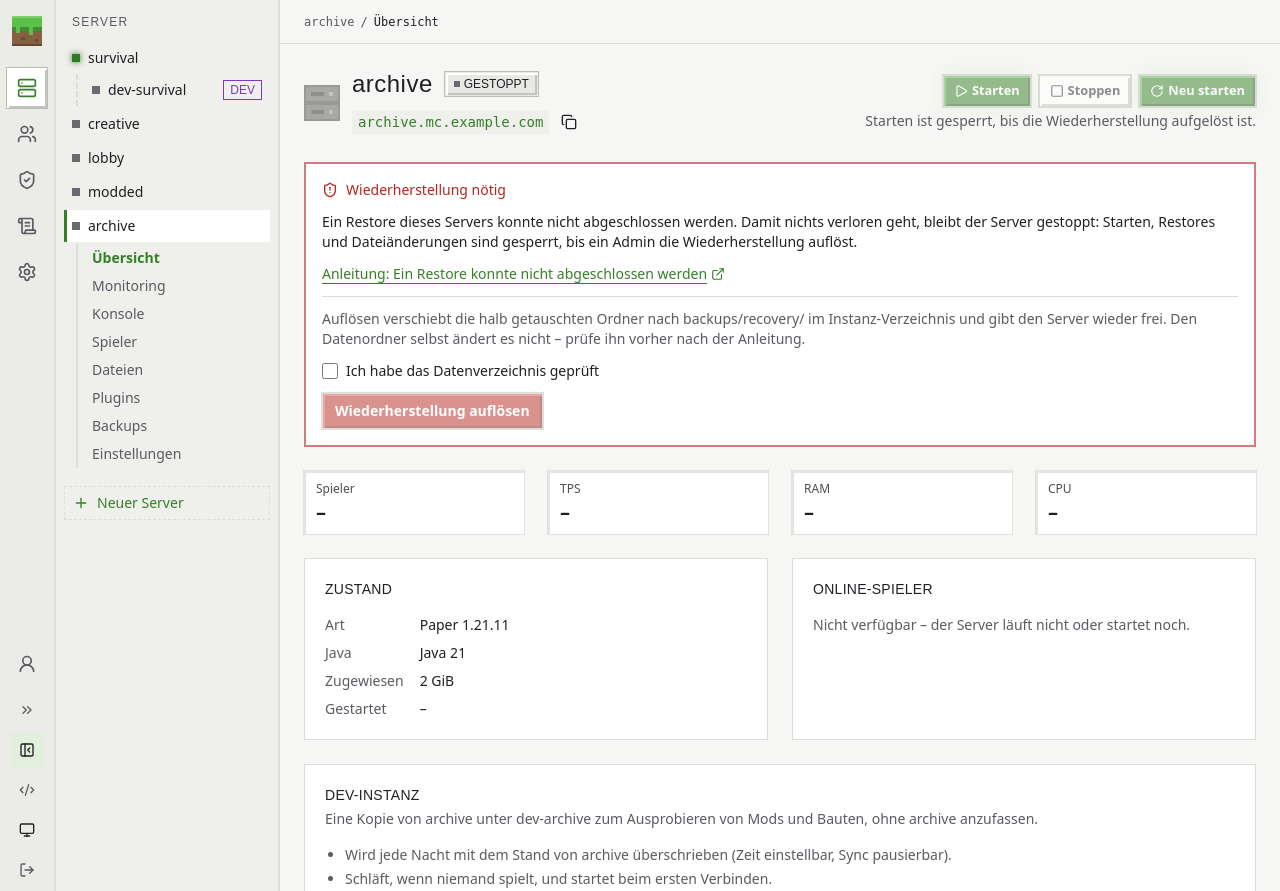
ServerLayout › data state (data safety spec §2.3) › asks for the second factor before resolving and retries afterwards
The image size is (1280, 891).
Click the checkbox labelled "Ich habe das Datenverzeichnis geprüft".
click(330, 371)  # box [322,363,338,379]
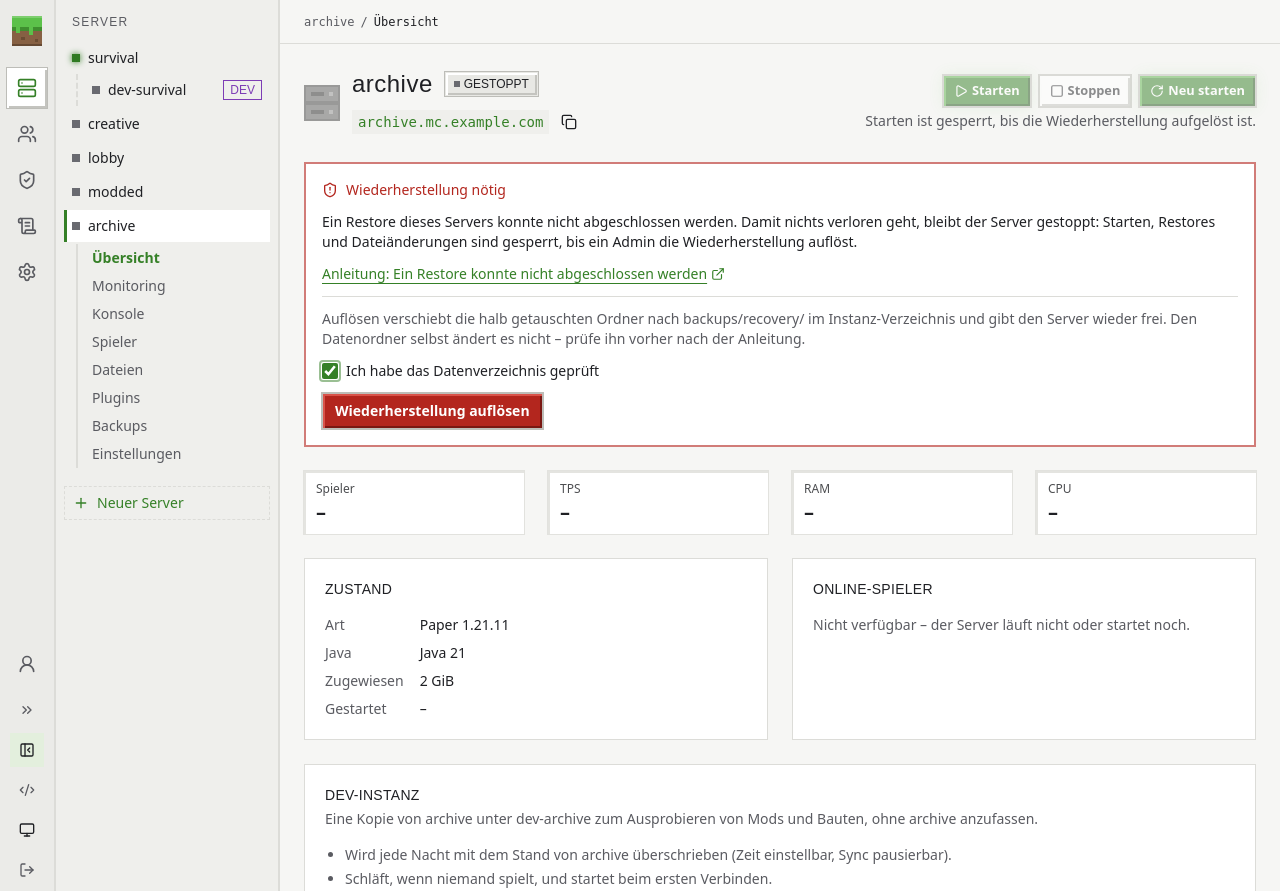
Click the button "Wiederherstellung auflösen".
click(432, 411)  # box [322,393,543,429]
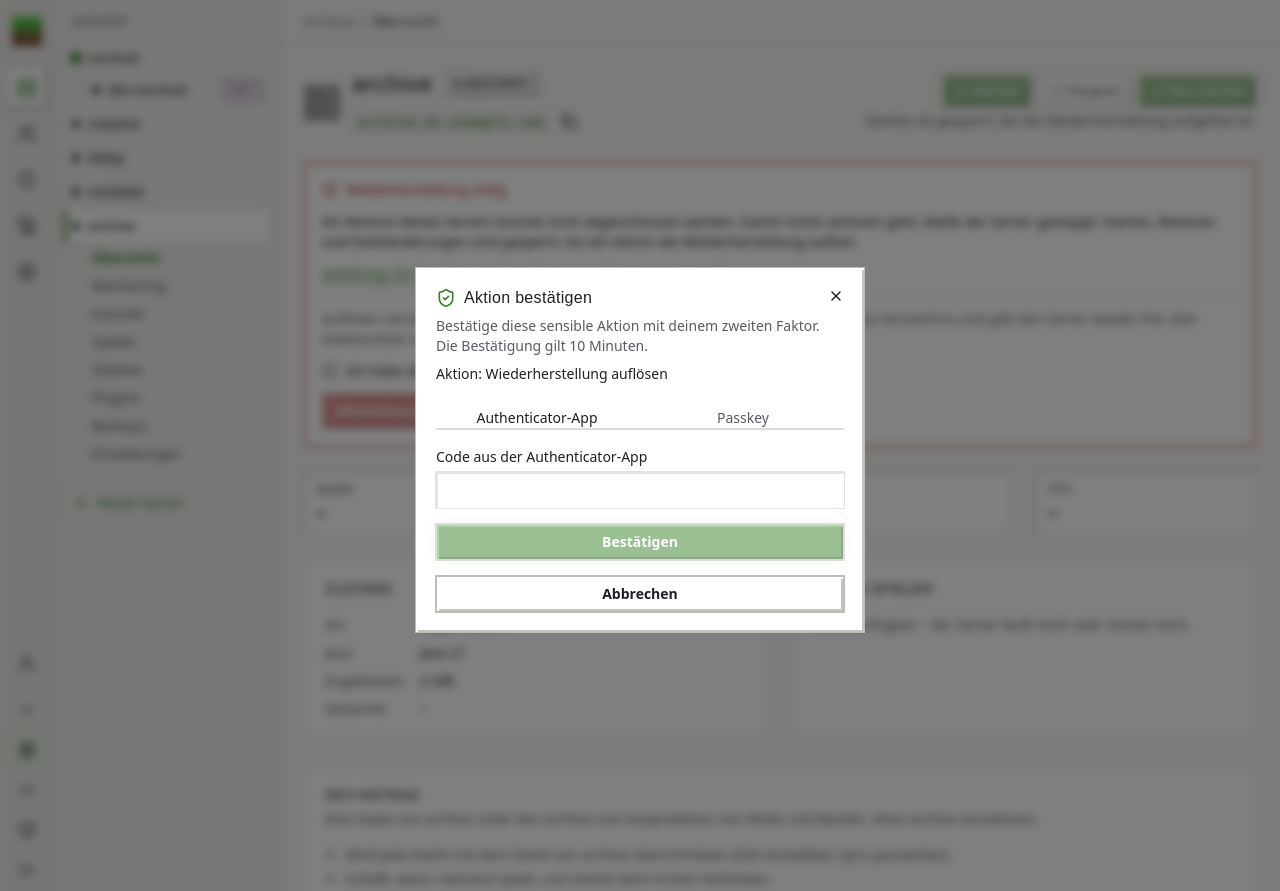
Type "123456" into the field labelled "Code aus der Authenticator-App".
click(640, 490); type("123456")  # box [436,472,844,508]
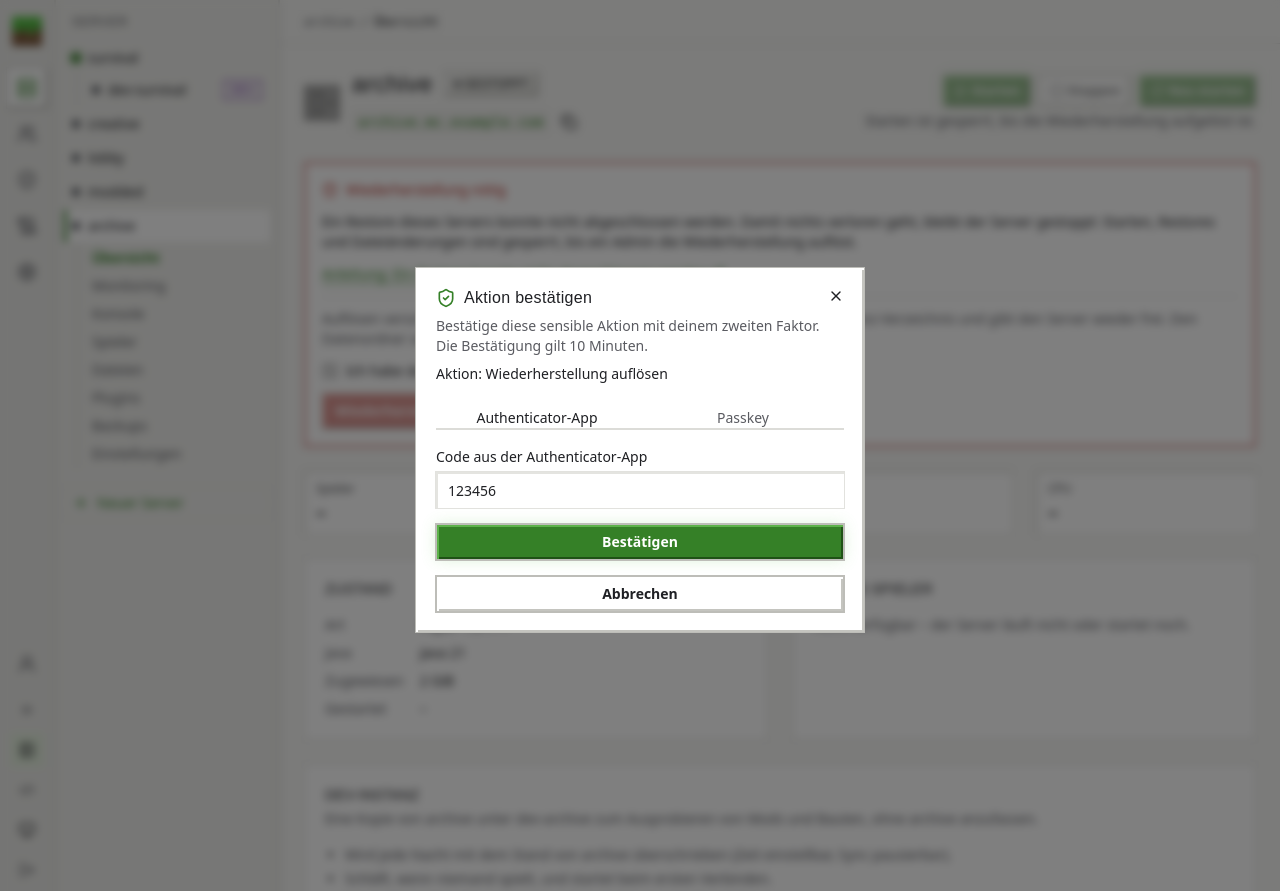
Click the button "Bestätigen".
click(640, 542)  # box [436,524,844,560]
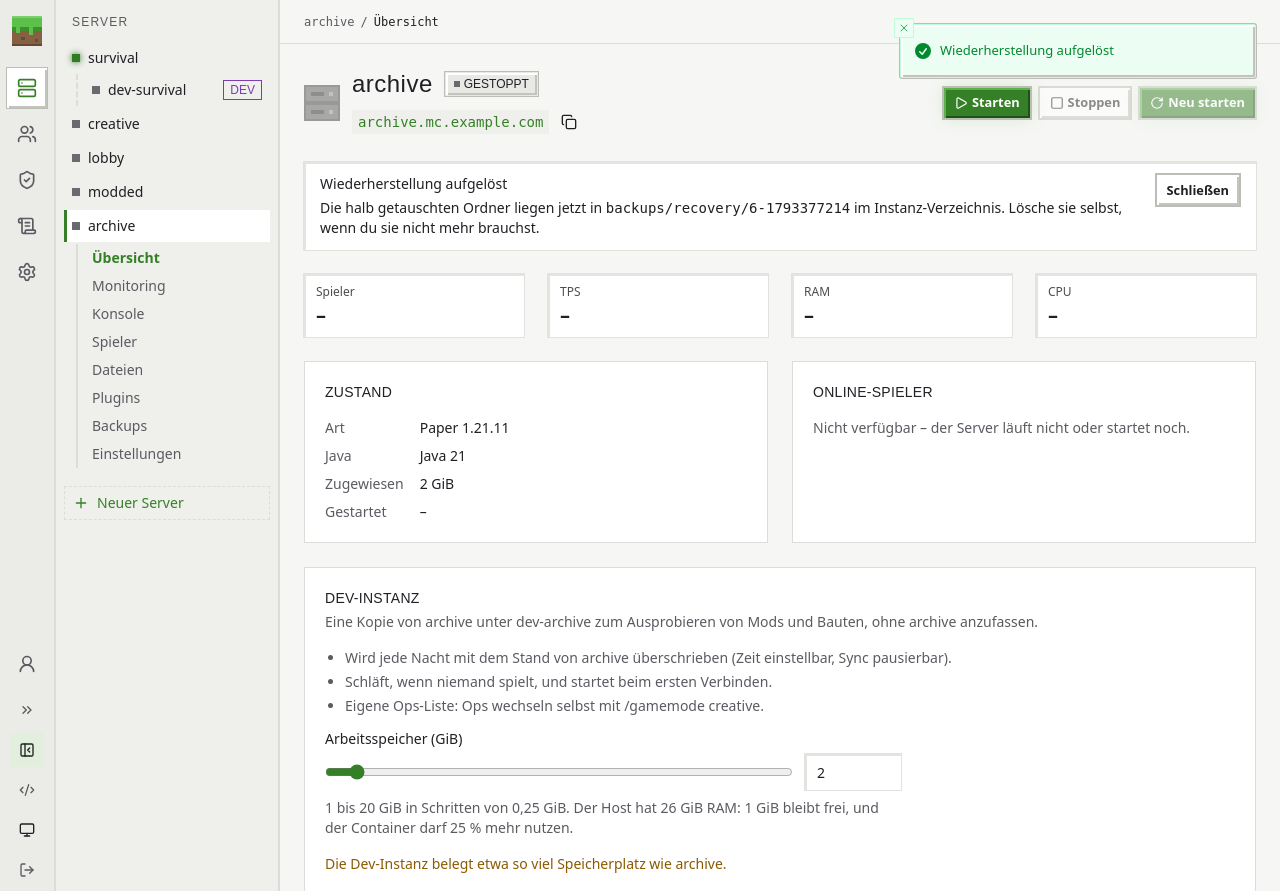
Expected: the message "Wiederherstellung aufgelöst" is shown, [304,162,1256,250]
